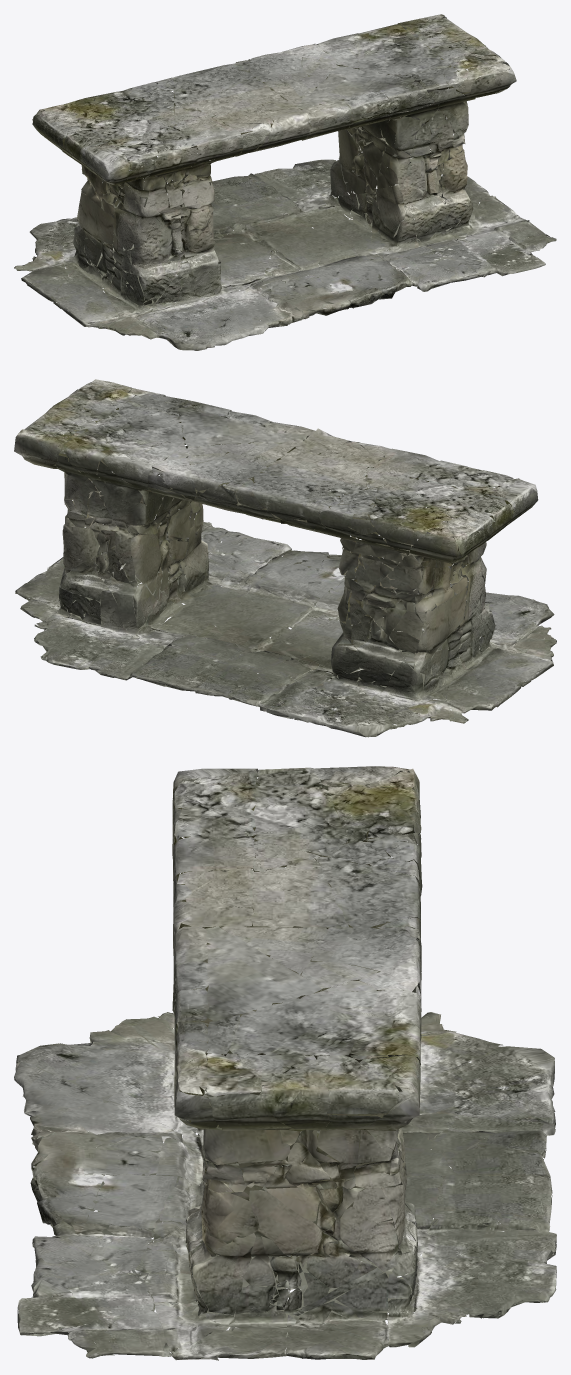
The model's file is o20_tas_oturak.glb.
The picture shows the model from 3 angles, top to bottom: view 1: azimuth 30°, elevation 25°; view 2: azimuth 150°, elevation 25°; view 3: azimuth 270°, elevation 25°; orthographic projection. The views are drawn at different scales.
Visible parts, largest first — view 1: Mesh_0; view 2: Mesh_0; view 3: Mesh_0.
Boxes of the visible parts, x1=… form: Mesh_0: x1=14, y1=14, x2=556, y2=350; Mesh_0: x1=14, y1=379, x2=556, y2=737; Mesh_0: x1=14, y1=766, x2=556, y2=1360.
Size of the model in its own units: 1.9 by 0.6796 by 1.24.
1 material, 1 textured.
